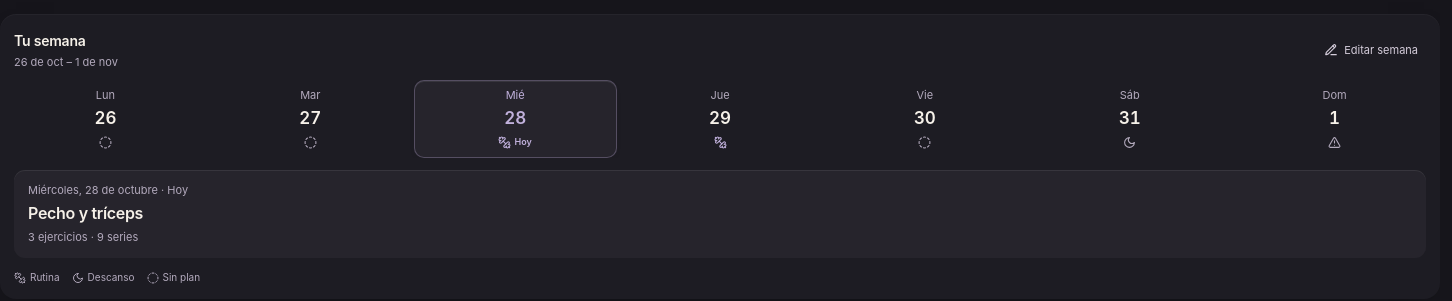
Scenario: compact weekly plan › distinguishes rest, unplanned and unavailable assignments without substituting a routine
Click the button "Sáb 31" at (1130, 119), box [1028,80,1231,158]
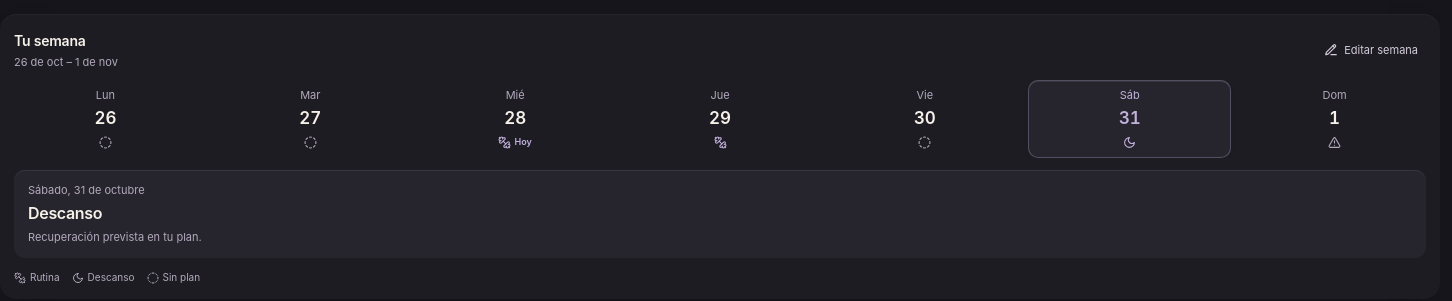
Check: the text "Descanso" is shown, box [28,203,102,223]
Check: the text "Recuperación prevista en tu plan." is shown, box [28,230,202,244]
Click the button "Vie 30" at (925, 119), box [823,80,1026,158]
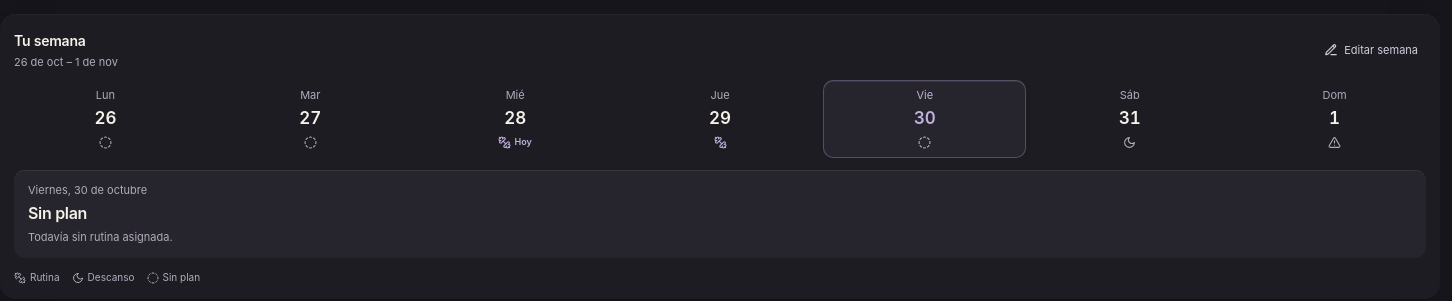
Check: the text "Sin plan" is shown, box [28,203,87,223]
Check: the text "Todavía sin rutina asignada." is shown, box [28,230,173,244]
Click the button "Dom 1" at (1335, 119), box [1233,80,1436,158]
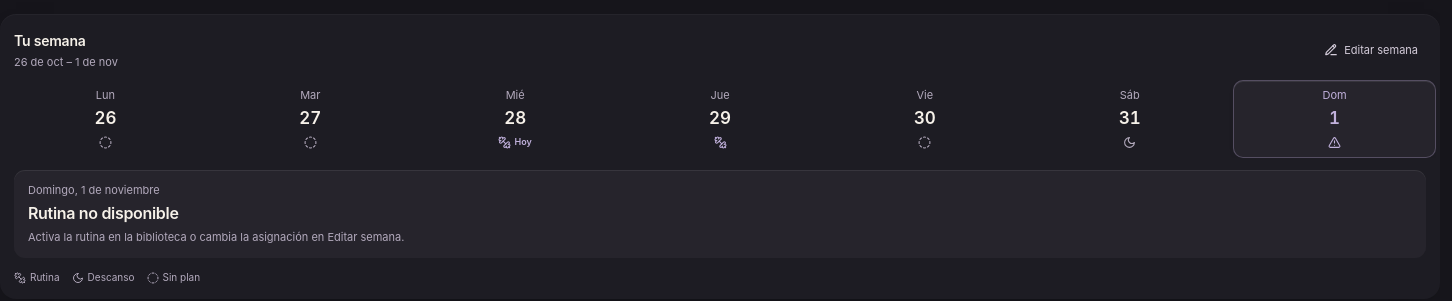
Check: the text "Rutina no disponible" is shown, box [28,203,178,223]
Check: the text "Activa la rutina en la biblioteca o cambia la asignación en Editar semana." is shown, box [28,230,404,244]
